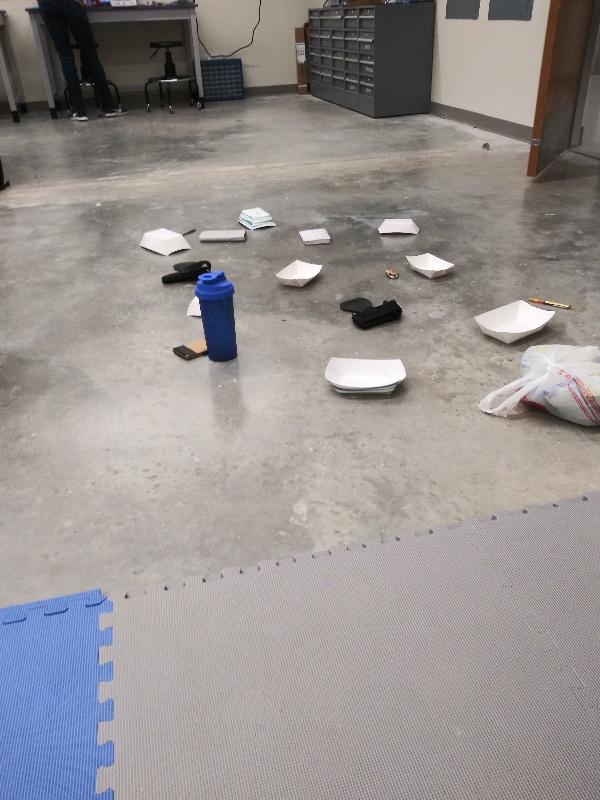plate: (471, 297, 560, 349), (317, 352, 413, 400), (271, 255, 327, 295), (133, 223, 195, 257), (405, 250, 462, 282), (232, 205, 283, 230), (375, 216, 425, 240), (186, 292, 198, 321)
